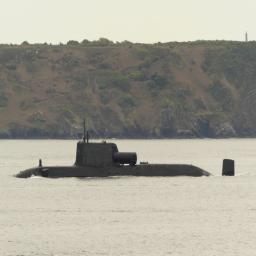submarine: (17, 126, 241, 180)
